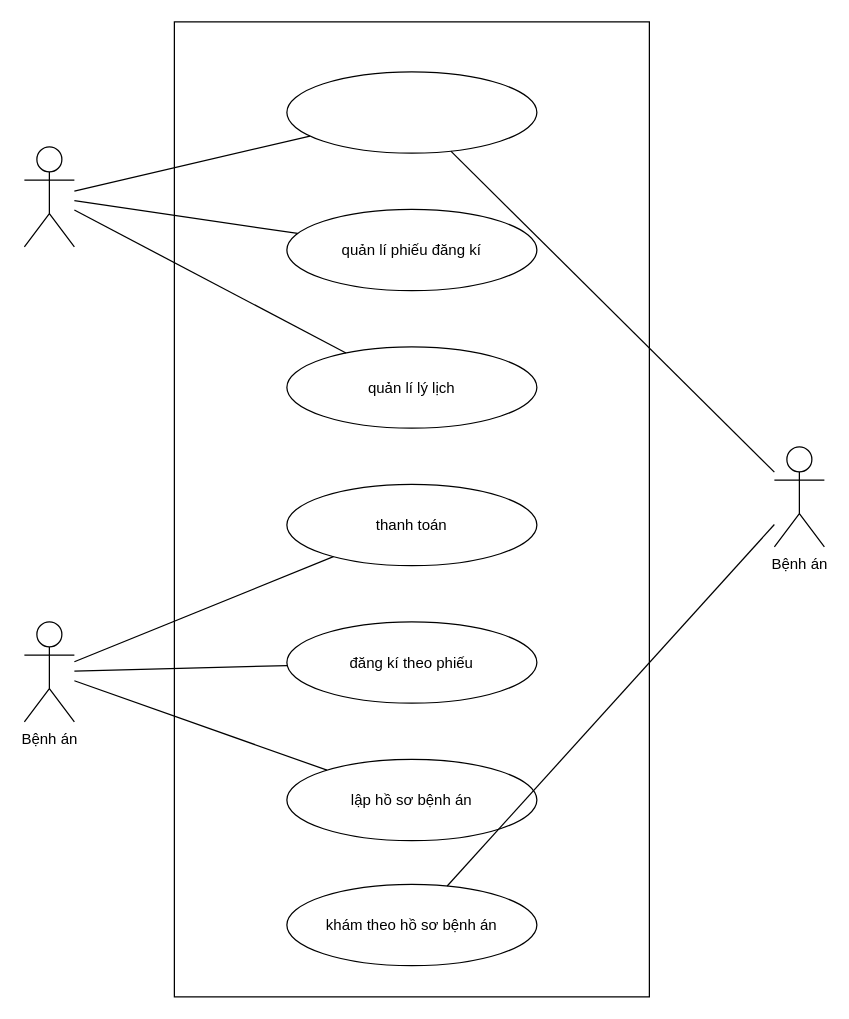
The diagram is 849 pixels wide and 1019 high, and some of its shapes have lost their labels. Each missing label, with the box of its shape:
Quản lí: (23, 146, 74, 247)
quản lí hồ sơ bệnh án: (286, 71, 537, 153)
